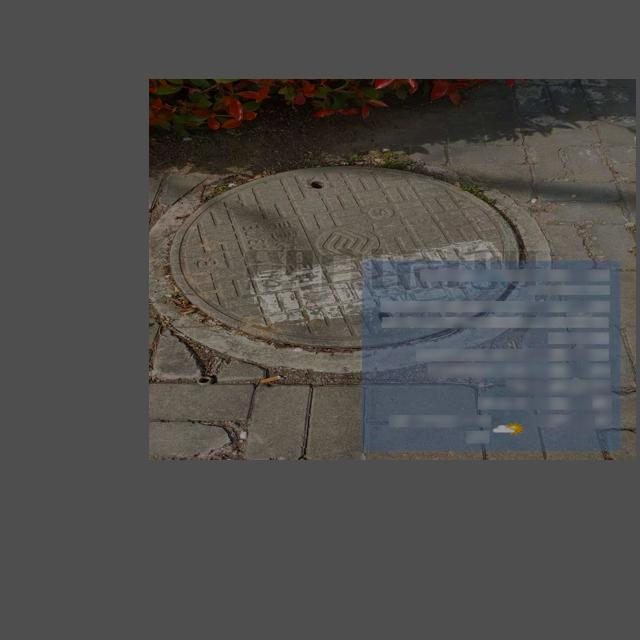circle: (158, 156, 532, 364)
